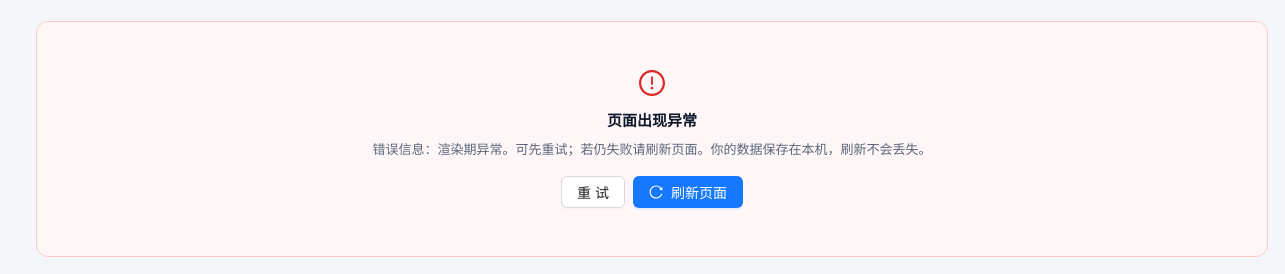
Test case: ErrorBoundary › 点击重试后重新渲染子组件
The width and height of the screenshot is (1285, 274).
Click the button "重 试" at (593, 192), box top-left (561, 176), bottom-right (625, 208)
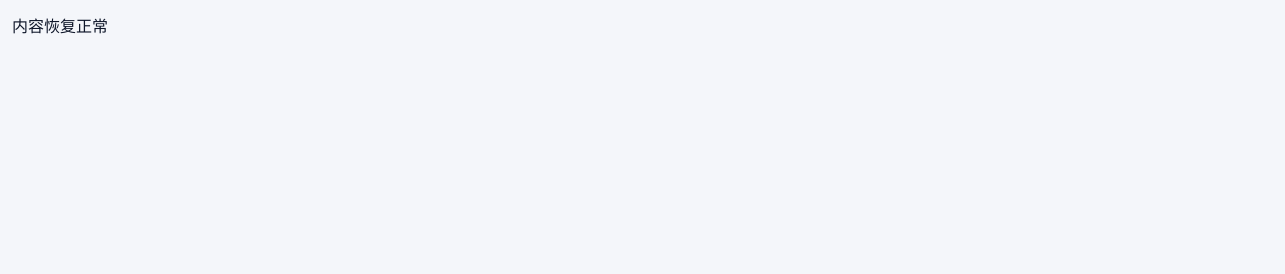
expect the text "内容恢复正常" is shown: met, box top-left (12, 16), bottom-right (108, 36)
expect the message "页面出现异常 错误信息：渲染期异常。可先重试；若仍失败请刷新页面。你的数据保存在本机，刷新不会丢失。 重 试 刷新页面" is gone: met
